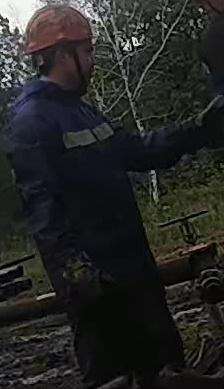gloves: (57, 244, 122, 317), (174, 95, 224, 154)
helmet: (22, 2, 95, 55)
vest: (7, 81, 159, 296)
